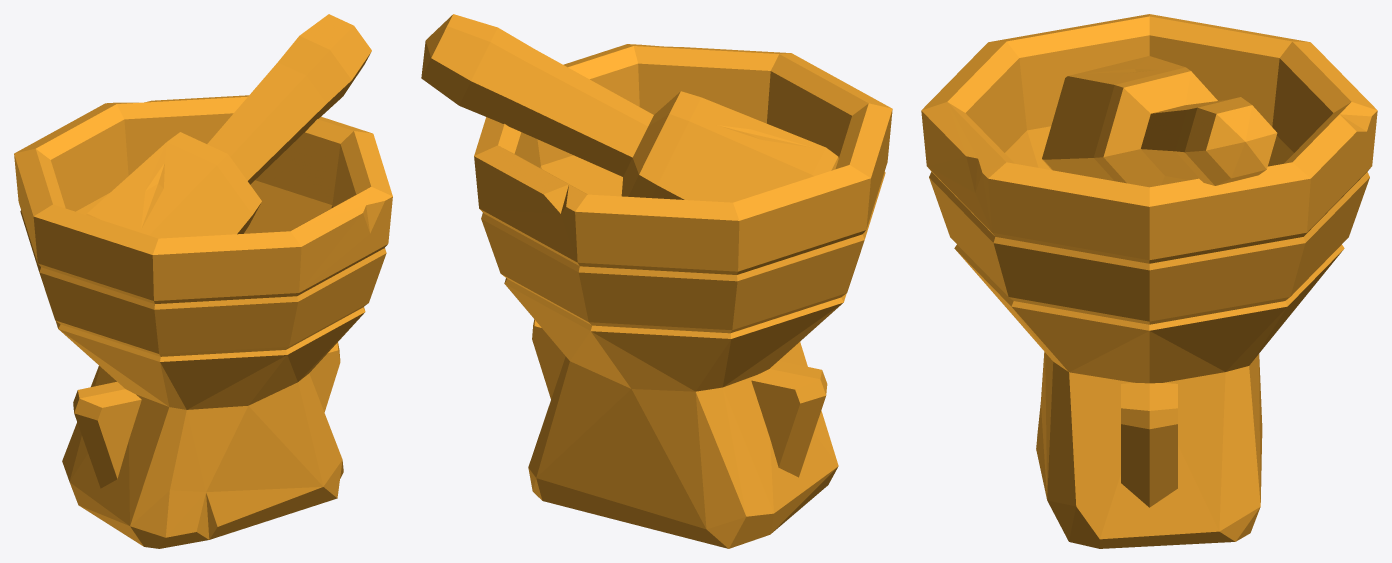
Rendered from SM_Mortar_Wooden_Full.fbx.
3 renders of one model, left to right at view 1: azimuth 30°, elevation 25°; view 2: azimuth 150°, elevation 25°; view 3: azimuth 270°, elevation 25°, orthographic. The views are drawn at different scales.
Parts seen in each view (by area): view 1: mortar-wooden-full; view 2: mortar-wooden-full; view 3: mortar-wooden-full.
Boxes of the visible parts, bbox=[...] form: mortar-wooden-full: bbox=[14, 14, 392, 548]; mortar-wooden-full: bbox=[421, 14, 892, 548]; mortar-wooden-full: bbox=[921, 14, 1377, 548].
Size of the model in its own units: 0.2548 by 0.2726 by 0.2362.
